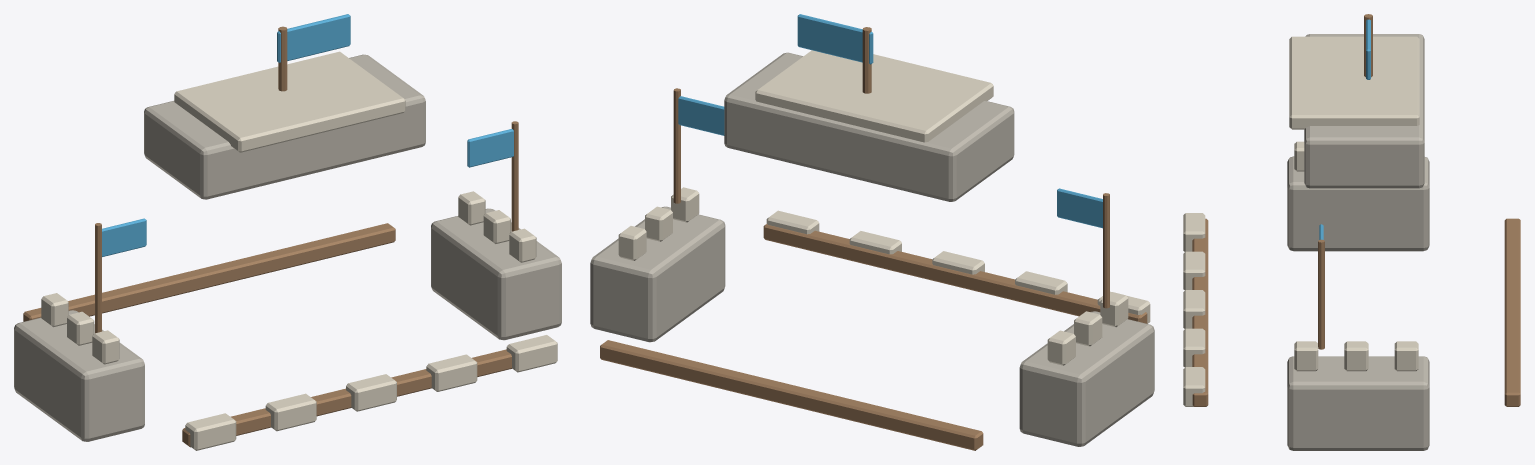
Rendered from hq_theme_castle.glb.
The picture shows the model from 3 angles, left to right: view 1: azimuth 30°, elevation 25°; view 2: azimuth 150°, elevation 25°; view 3: azimuth 270°, elevation 25°; orthographic projection. The views are drawn at different scales.
Parts seen in each view (by area): view 1: Castle_CommandCrown, Castle_CommandCrownTrim, Castle_Shoulder_R, Castle_Shoulder_L, Castle_WoodBeam_Back, Castle_WoodBeam_Front, Castle_CommandFlag, Castle_FrontCrenel, Castle_FrontCrenel.003, Castle_FrontCrenel.001, Castle_FrontCrenel.004, Castle_FrontCrenel.002 (+11 smaller); view 2: Castle_CommandCrown, Castle_CommandCrownTrim, Castle_Shoulder_R, Castle_Shoulder_L, Castle_WoodBeam_Back, Castle_WoodBeam_Front, Castle_CommandFlag, Castle_Flag.001, Castle_Flag, Castle_FlagPole.001, Castle_Merlon.002, Castle_Merlon.005 (+10 smaller); view 3: Castle_Shoulder_R, Castle_CommandCrownTrim, Castle_Shoulder_L, Castle_CommandCrown, Castle_WoodBeam_Back, Castle_WoodBeam_Front, Castle_FlagPole.001, Castle_Merlon.005, Castle_Merlon.004, Castle_Merlon.003, Castle_FrontCrenel.004, Castle_FrontCrenel.003 (+3 smaller).
Part boxes in pixels (x1,y1,x2,y2): Castle_CommandCrown: (144,54,425,199); Castle_CommandCrownTrim: (174,51,405,152); Castle_Shoulder_R: (431,208,561,340); Castle_Shoulder_L: (14,310,144,441); Castle_WoodBeam_Back: (23,223,395,321); Castle_WoodBeam_Front: (182,349,511,447); Castle_CommandFlag: (277,14,350,62); Castle_FrontCrenel: (185,413,236,450); Castle_FrontCrenel.003: (426,354,477,391); Castle_FrontCrenel.001: (265,393,316,431); Castle_FrontCrenel.004: (506,335,557,372); Castle_FrontCrenel.002: (346,374,396,411); Castle_CommandCrown: (724,52,1014,201); Castle_CommandCrownTrim: (755,50,993,142); Castle_Shoulder_R: (590,206,725,342); Castle_Shoulder_L: (1019,311,1154,446); Castle_WoodBeam_Back: (600,340,983,450); Castle_WoodBeam_Front: (763,224,1147,323); Castle_CommandFlag: (797,14,873,64); Castle_Flag.001: (678,96,724,135); Castle_Flag: (1057,188,1102,228); Castle_FlagPole.001: (673,88,680,203); Castle_Merlon.002: (1047,330,1075,365); Castle_Merlon.005: (618,226,646,260); Castle_Shoulder_R: (1287,356,1429,450); Castle_CommandCrownTrim: (1289,36,1419,129); Castle_Shoulder_L: (1287,156,1429,251); Castle_CommandCrown: (1304,34,1424,188); Castle_WoodBeam_Back: (1504,218,1520,406); Castle_WoodBeam_Front: (1192,218,1208,406); Castle_FlagPole.001: (1318,239,1324,349); Castle_Merlon.005: (1394,341,1418,371); Castle_Merlon.004: (1344,341,1368,371); Castle_Merlon.003: (1294,341,1318,371); Castle_FrontCrenel.004: (1183,367,1205,406); Castle_FrontCrenel.003: (1183,328,1205,367).
Size of the model in its own units: 5.44 by 3.55 by 3.37.
